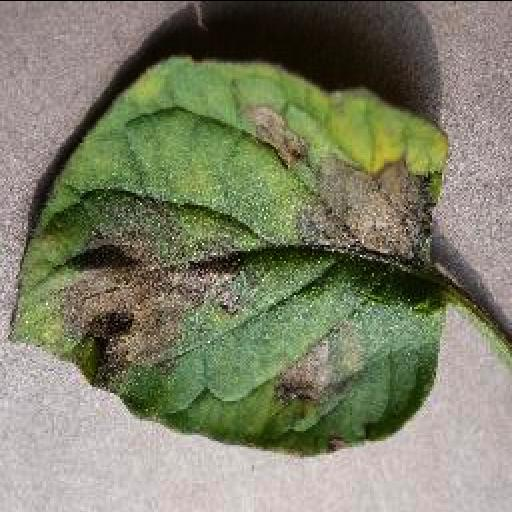disease_tomato: (5, 52, 447, 454)
